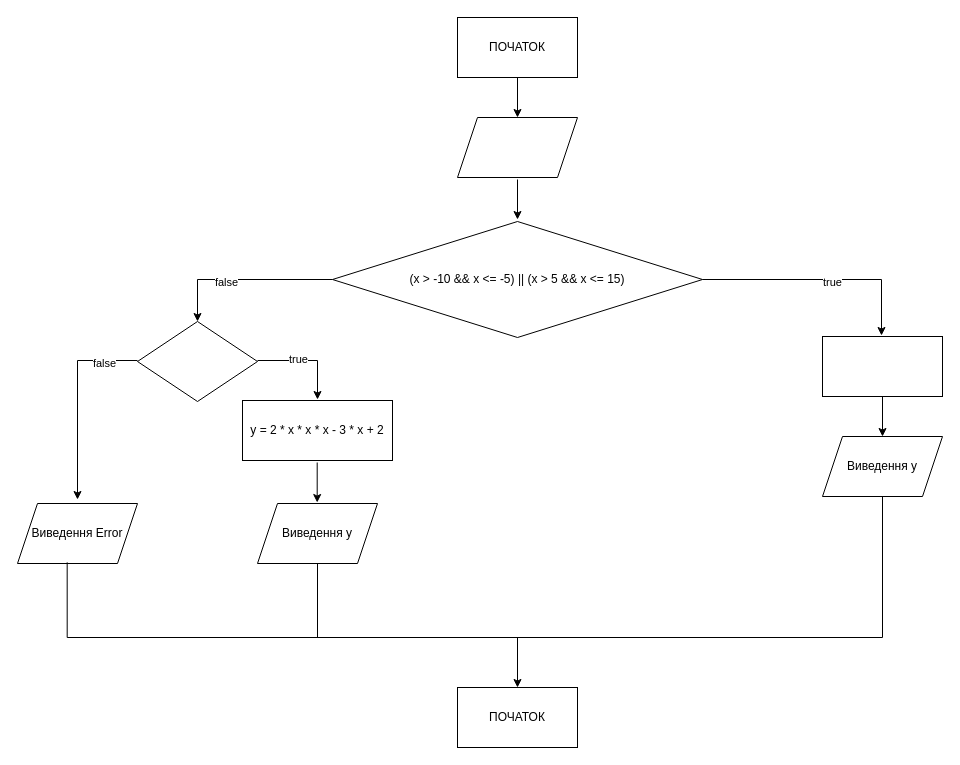
This 960x765 diagram has some shape labels left out. Each missing label, with the centre of its shape:
"x >=25" goes at pixel 197 361.
"y = x * x * x - 6" goes at pixel 882 366.
"Введення x" goes at pixel 517 147.
